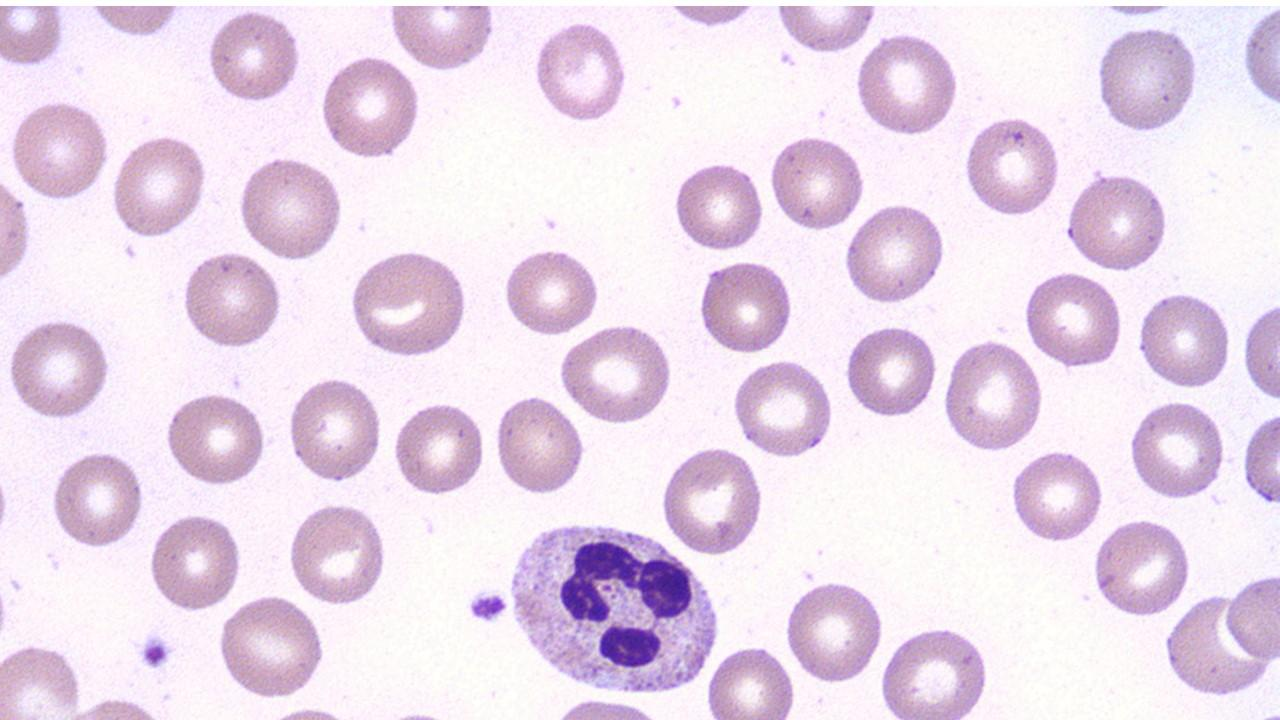Platelets: (464, 584, 512, 626), (134, 628, 176, 673)
RBC: (345, 246, 471, 358), (1163, 582, 1279, 700), (215, 590, 328, 702), (940, 335, 1045, 455), (658, 443, 766, 558), (556, 322, 676, 425), (1095, 23, 1203, 137), (237, 153, 346, 264), (316, 51, 424, 163), (852, 30, 962, 139), (6, 315, 116, 423), (842, 199, 950, 307), (284, 498, 390, 607), (8, 95, 114, 204), (1062, 168, 1172, 273), (782, 575, 886, 686), (877, 621, 994, 718), (530, 16, 632, 127), (109, 130, 211, 241), (284, 373, 384, 486), (178, 248, 285, 352), (730, 356, 838, 459), (960, 111, 1063, 219), (1088, 516, 1194, 619), (160, 389, 270, 488), (1022, 268, 1124, 371), (766, 131, 868, 234), (147, 509, 246, 615), (48, 446, 147, 552), (204, 7, 306, 108), (1127, 398, 1227, 501), (1135, 288, 1233, 392), (696, 256, 796, 356), (842, 322, 942, 422), (492, 392, 588, 496), (1007, 446, 1105, 546), (390, 398, 487, 498), (499, 243, 602, 337), (670, 157, 768, 254), (386, 5, 496, 74), (702, 641, 798, 717), (0, 638, 88, 716), (774, 3, 880, 58), (1224, 568, 1278, 666), (0, 4, 69, 70), (1239, 293, 1279, 405), (1239, 1, 1279, 112), (1239, 407, 1279, 510), (0, 165, 32, 290)
WBC: (498, 512, 726, 704)
